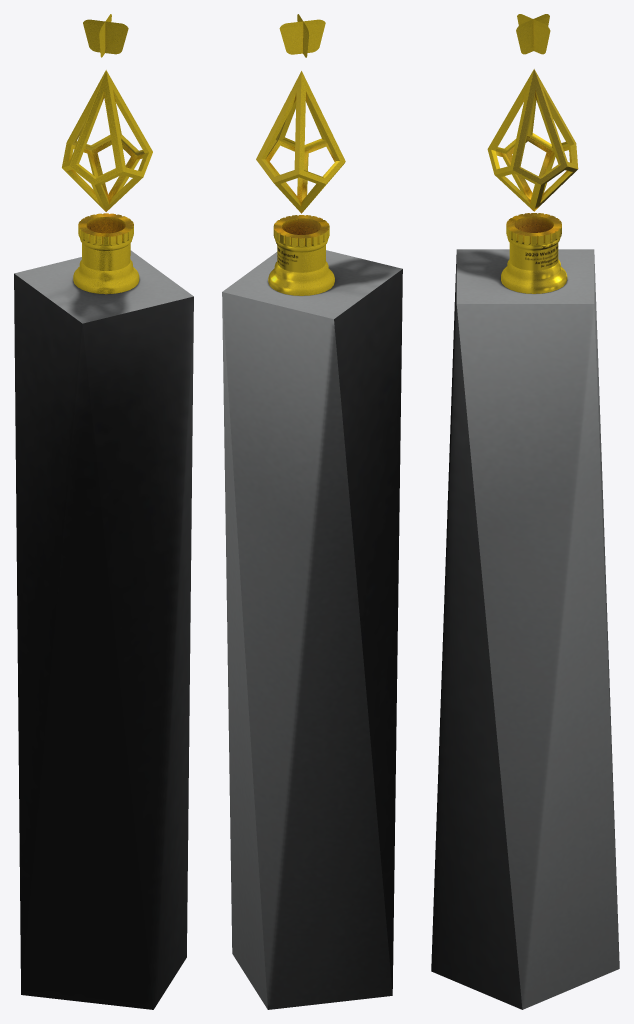
File: trophy.glb
3 views of the same model, side by side, from view 1: azimuth 30°, elevation 25°; view 2: azimuth 150°, elevation 25°; view 3: azimuth 270°, elevation 25° (orthographic).
Visible parts, largest first — view 1: Trophy; view 2: Trophy; view 3: Trophy.
Boxes of the visible parts, x1=… form: Trophy: x1=14, y1=14, x2=193, y2=1009; Trophy: x1=222, y1=14, x2=402, y2=1009; Trophy: x1=431, y1=14, x2=619, y2=1009.
Bounding box in the file's own units: 0.3288 × 1.84 × 0.3288.
Materials: 1 (1 with a texture image).
